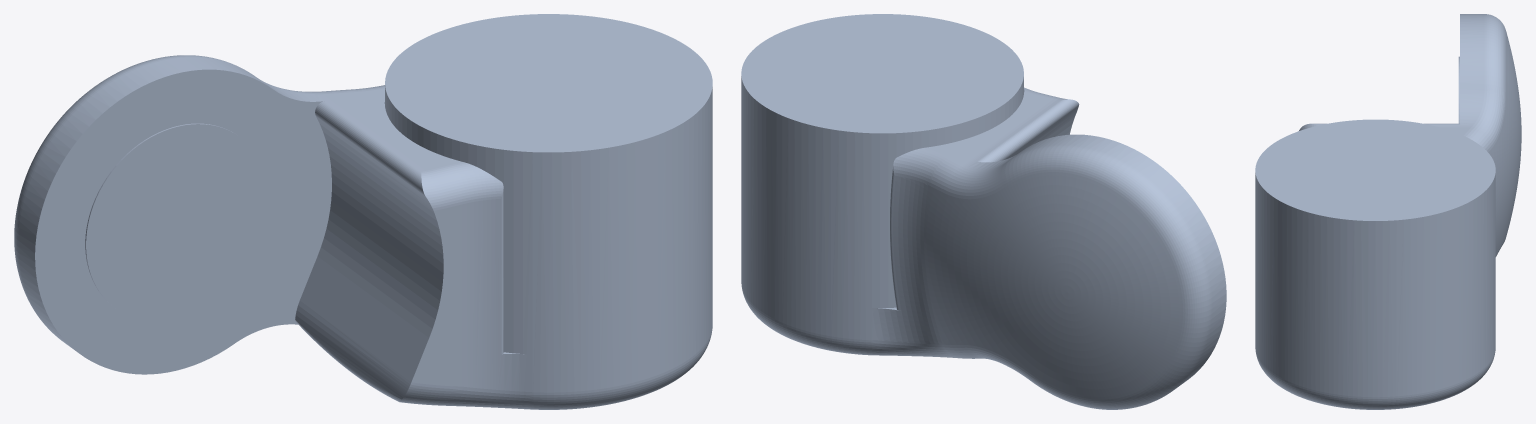
3 renders of one model, left to right at view 1: azimuth 30°, elevation 25°; view 2: azimuth 150°, elevation 25°; view 3: azimuth 270°, elevation 25°, orthographic. The views are drawn at different scales.
Visible parts, largest first — view 1: UArm-V3.6-Wrist-back-simplified; view 2: UArm-V3.6-Wrist-back-simplified; view 3: UArm-V3.6-Wrist-back-simplified.
Boxes of the visible parts, x1,y1,x2,y2 form: UArm-V3.6-Wrist-back-simplified: [14, 14, 712, 409]; UArm-V3.6-Wrist-back-simplified: [741, 14, 1226, 409]; UArm-V3.6-Wrist-back-simplified: [1255, 14, 1521, 409].
Bounding box in the file's own units: 0.137 × 0.072 × 0.071.
